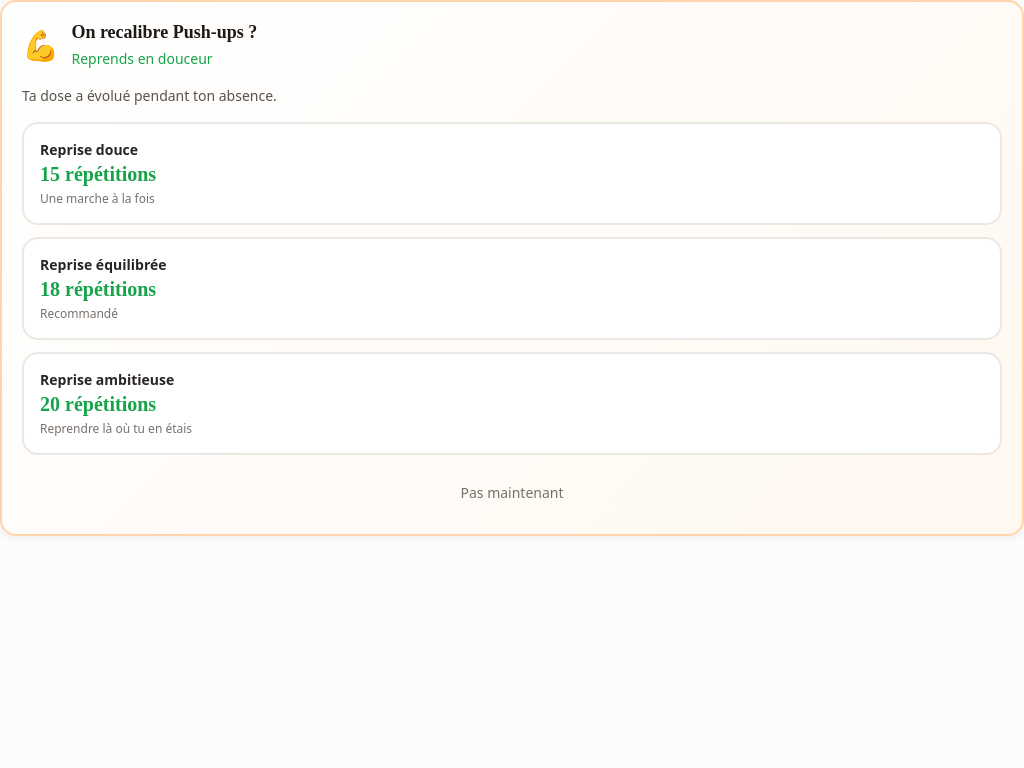
Scenario: RecalibrationPrompt › Interactions › shows confirmation view when a level is selected
This screenshot has width=1024, height=768.
// Click on the balanced option
What coordinates should you click on to do the following:
click the text "Reprise équilibrée"
I would click on:
 (103, 264)
Its box is [40, 255, 166, 274].
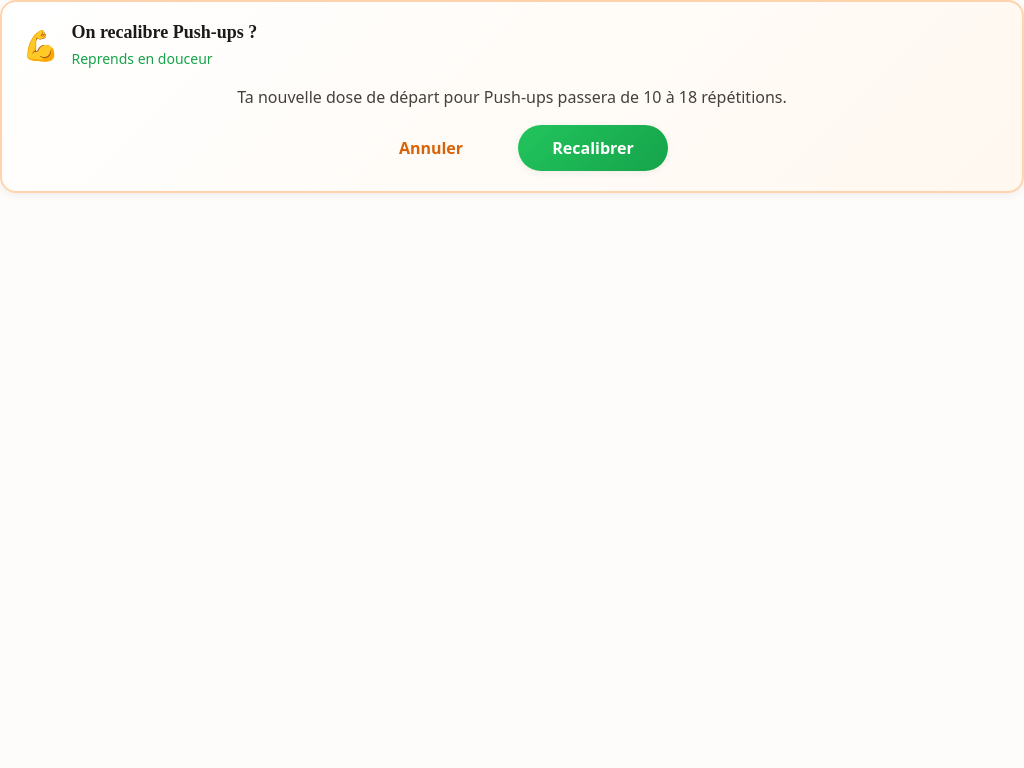
Expected: the button "Recalibrer" is shown, [518, 125, 668, 171]
Expected: the button "Annuler" is shown, [356, 125, 506, 171]
